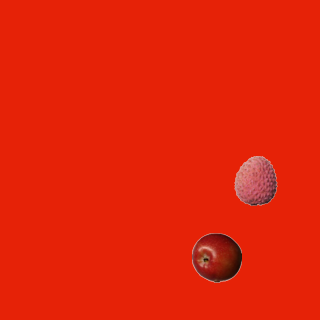Apple Braeburn: (191, 232, 241, 282)
Lychee: (230, 155, 280, 205)
